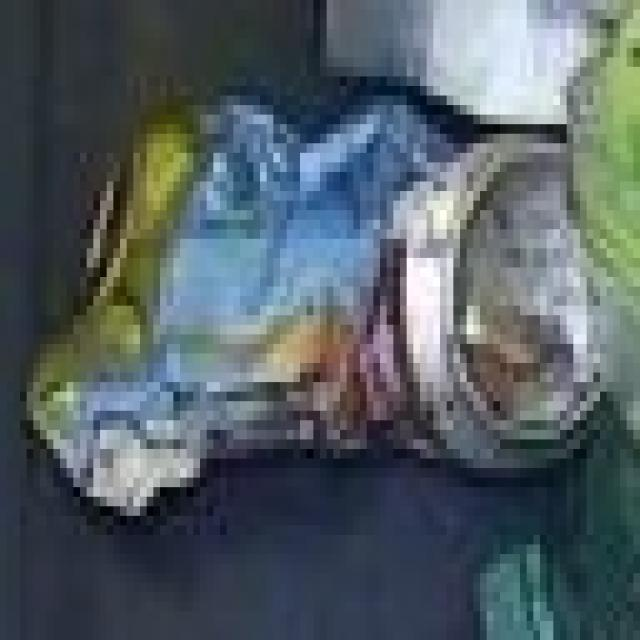litter: (0, 35, 629, 589)
